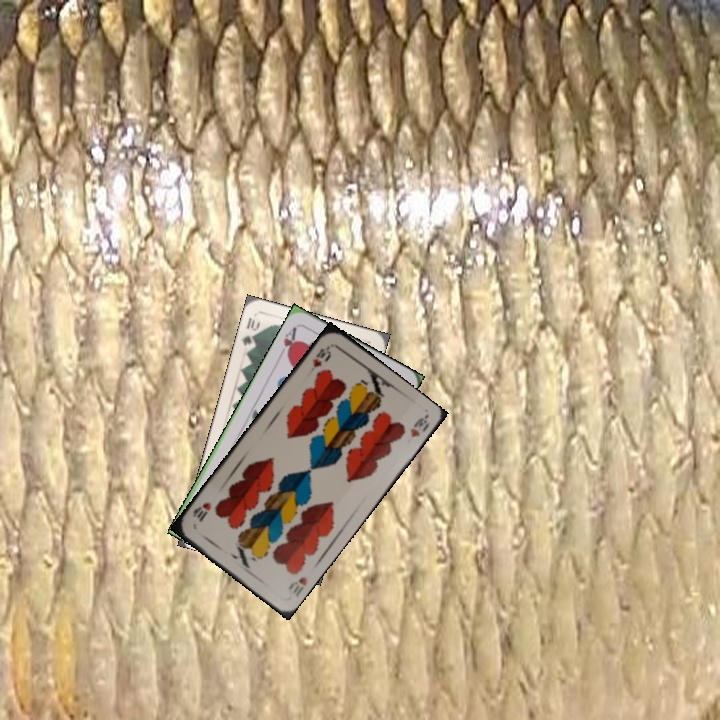G10: (238, 313, 263, 348)
H10: (308, 341, 334, 370), (284, 572, 310, 599)
HA: (274, 323, 299, 360)
